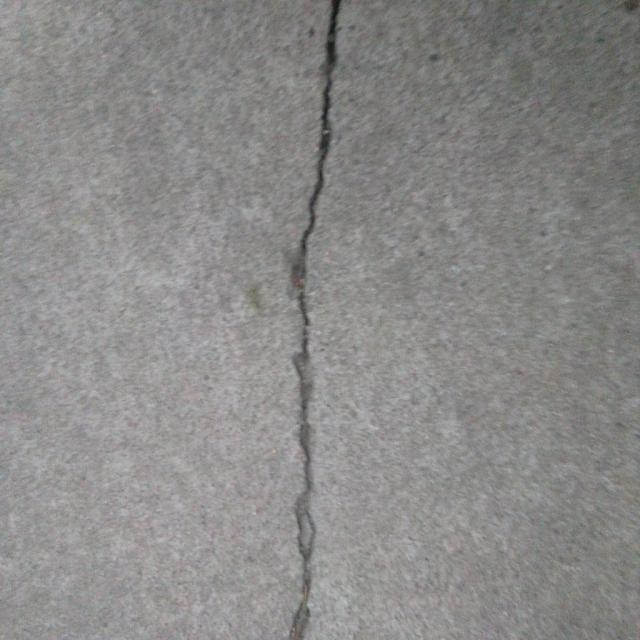cracks: (275, 0, 364, 640)
